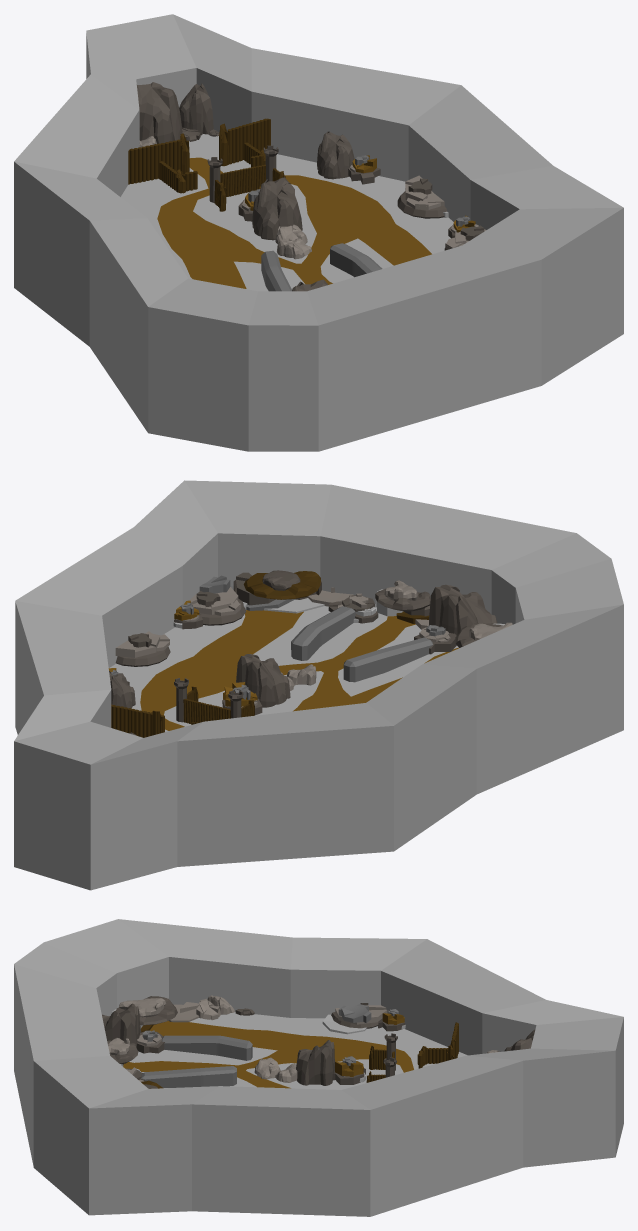
File: MAP CALVIN.fbx
3 renders of one model, top to bottom at view 1: azimuth 30°, elevation 25°; view 2: azimuth 150°, elevation 25°; view 3: azimuth 270°, elevation 25°, orthographic. The views are drawn at different scales.
Visible parts, largest first — view 1: Ground, MAPLD1_group3, MAPLD1_woodenwall1start2, group6, mur1, mur2; view 2: Ground, MAPLD1_group3, group6, MAPLD1_woodenwall1start2, mur2, mur1; view 3: Ground, MAPLD1_group3, group6, MAPLD1_woodenwall1start2, mur2, mur1.
Boxes of the visible parts, x1=… form: Ground: x1=14, y1=14, x2=623, y2=451; MAPLD1_group3: x1=137, y1=82, x2=485, y2=291; MAPLD1_woodenwall1start2: x1=128, y1=118, x2=285, y2=211; group6: x1=238, y1=131, x2=354, y2=259; mur1: x1=330, y1=243, x2=382, y2=277; mur2: x1=261, y1=250, x2=291, y2=291; Ground: x1=14, y1=480, x2=623, y2=890; MAPLD1_group3: x1=108, y1=570, x2=512, y2=735; group6: x1=109, y1=654, x2=316, y2=715; MAPLD1_woodenwall1start2: x1=111, y1=678, x2=254, y2=737; mur2: x1=343, y1=637, x2=432, y2=682; mur1: x1=291, y1=606, x2=355, y2=660; Ground: x1=14, y1=919, x2=623, y2=1216; MAPLD1_group3: x1=102, y1=995, x2=535, y2=1088; group6: x1=254, y1=1009, x2=405, y2=1085; MAPLD1_woodenwall1start2: x1=366, y1=1022, x2=458, y2=1082; mur2: x1=161, y1=1035, x2=252, y2=1060; mur1: x1=141, y1=1066, x2=236, y2=1087.
Bounding box in the file's own units: 44489 × 11613 × 60056.
